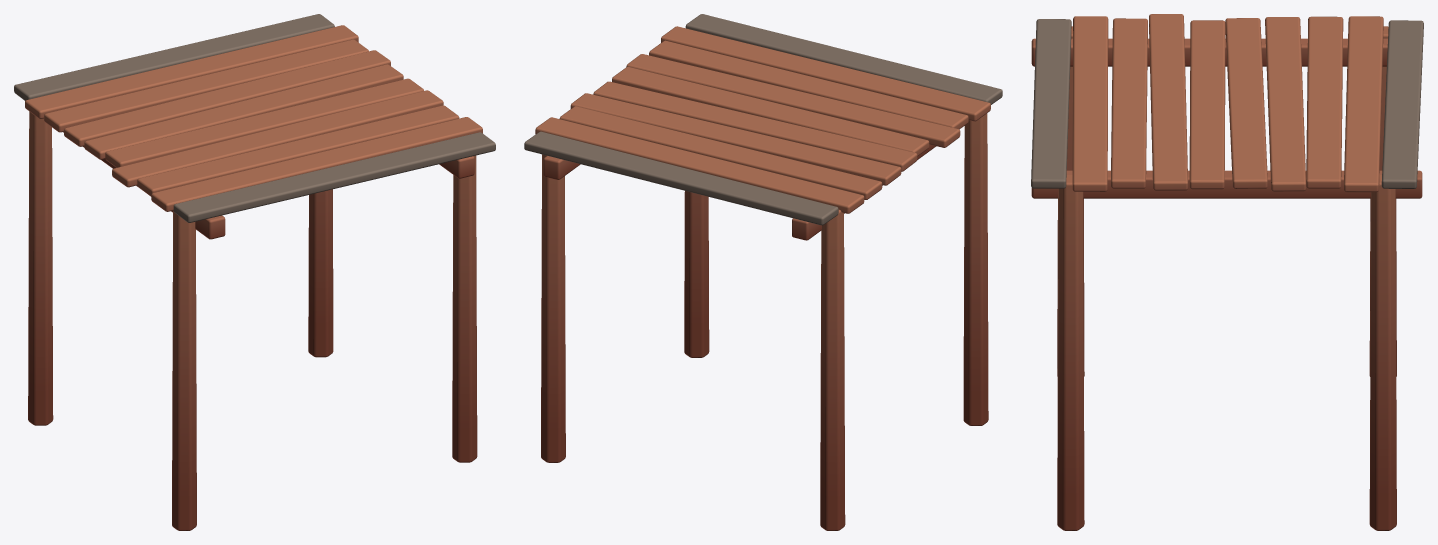
The model's file is boardwalk.glb.
3 views of the same model, side by side, from view 1: azimuth 30°, elevation 25°; view 2: azimuth 150°, elevation 25°; view 3: azimuth 270°, elevation 25° (orthographic). The views are drawn at different scales.
Parts seen in each view (by area): view 1: boardwalk; view 2: boardwalk; view 3: boardwalk.
Part boxes in pixels (bbox=[...]): boardwalk: bbox=[14, 14, 495, 530]; boardwalk: bbox=[524, 14, 1002, 530]; boardwalk: bbox=[1031, 14, 1423, 530].
Bounding box in the file's own units: 3.11 × 3 × 3.02.
Materials: 1 (1 with a texture image).
